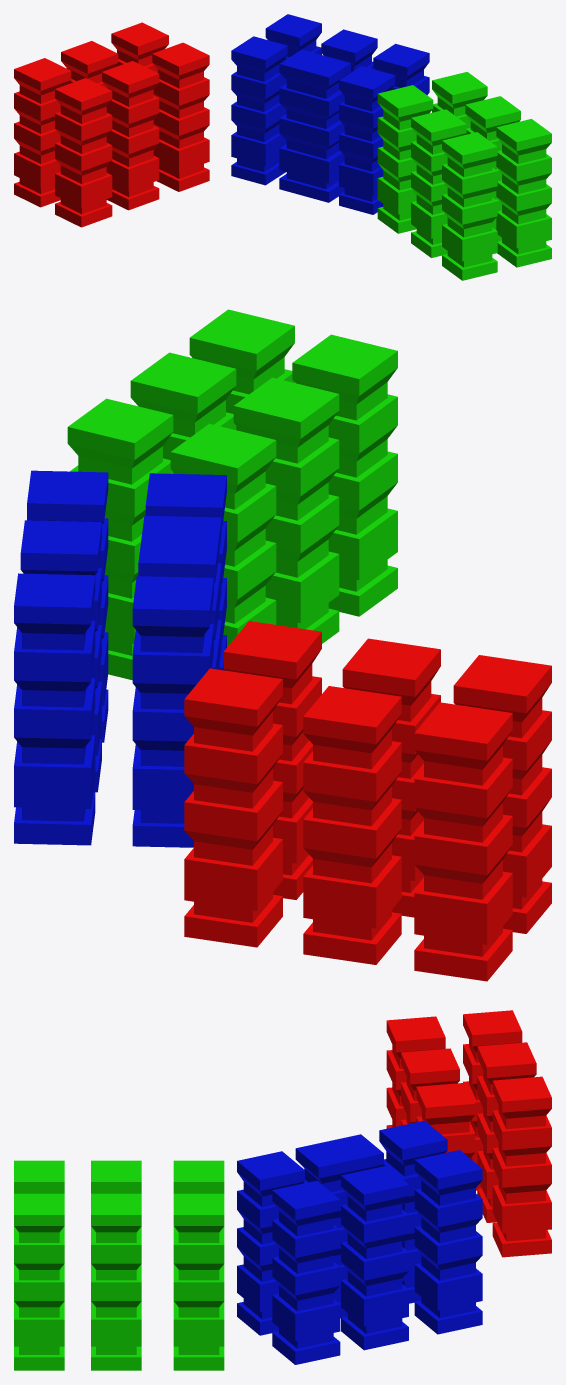
3 renders of one model, top to bottom at view 1: azimuth 30°, elevation 25°; view 2: azimuth 150°, elevation 25°; view 3: azimuth 270°, elevation 25°, orthographic. The views are drawn at different scales.
Visible parts, largest first — view 1: Cube.008, Cube.017, Cube.010, Cube.009, Cube.014, Cube.007, Cube.013, Cube.018, Cube.012, Cube.003, Cube.004, Cube.001 (+6 smaller); view 2: Cube.016, Cube.015, Cube.018, Cube.006, Cube.010, Cube.007, Cube.004, Cube.017, Cube.002, Cube.003, Cube.014, Cube.013 (+6 smaller); view 3: Cube.006, Cube.011, Cube.005, Cube.015, Cube.002, Cube.001, Cube.009, Cube.012, Cube.016, Cube.007, Cube.008, Cube.014 (+6 smaller).
Boxes of the visible parts, x1,y1,x2,y2 form: Cube.008: [279, 49, 350, 202]; Cube.017: [55, 78, 112, 227]; Cube.010: [442, 132, 497, 280]; Cube.009: [496, 119, 551, 267]; Cube.014: [152, 42, 209, 191]; Cube.007: [231, 36, 287, 185]; Cube.013: [102, 61, 159, 210]; Cube.018: [14, 58, 71, 207]; Cube.012: [339, 66, 395, 214]; Cube.003: [377, 85, 433, 233]; Cube.004: [411, 109, 466, 257]; Cube.001: [465, 96, 520, 241]; Cube.016: [303, 686, 401, 964]; Cube.015: [184, 668, 282, 947]; Cube.018: [414, 702, 512, 981]; Cube.006: [14, 573, 95, 845]; Cube.010: [292, 334, 397, 616]; Cube.007: [132, 576, 213, 847]; Cube.004: [233, 377, 339, 643]; Cube.017: [453, 655, 551, 933]; Cube.002: [67, 398, 173, 680]; Cube.003: [170, 423, 276, 646]; Cube.014: [223, 621, 321, 899]; Cube.013: [342, 638, 440, 917]; Cube.006: [414, 1150, 482, 1334]; Cube.011: [272, 1180, 340, 1364]; Cube.005: [341, 1166, 408, 1350]; Cube.015: [492, 1076, 551, 1257]; Cube.002: [173, 1193, 224, 1370]; Cube.001: [91, 1193, 141, 1370]; Cube.009: [14, 1193, 64, 1370]; Cube.012: [237, 1151, 304, 1335]; Cube.016: [477, 1042, 536, 1222]; Cube.007: [379, 1120, 447, 1303]; Cube.008: [295, 1134, 383, 1318]; Cube.014: [416, 1082, 475, 1158].
Bounding box in the file's own units: 5.21 × 1.85 × 5.79.
